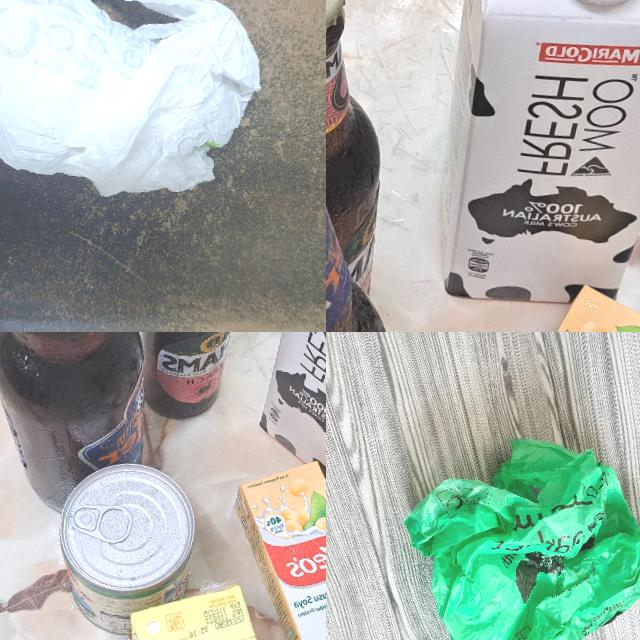aba de lata: (68, 502, 134, 544)
caixinha: (431, 0, 640, 317), (219, 453, 326, 640), (122, 575, 267, 640), (507, 278, 640, 332)
garrafa de vidro: (0, 332, 167, 520), (326, 88, 421, 332), (326, 0, 399, 295), (128, 332, 249, 424)
lata: (52, 458, 201, 640)
sacola plástica: (0, 0, 271, 210), (391, 427, 640, 640)
